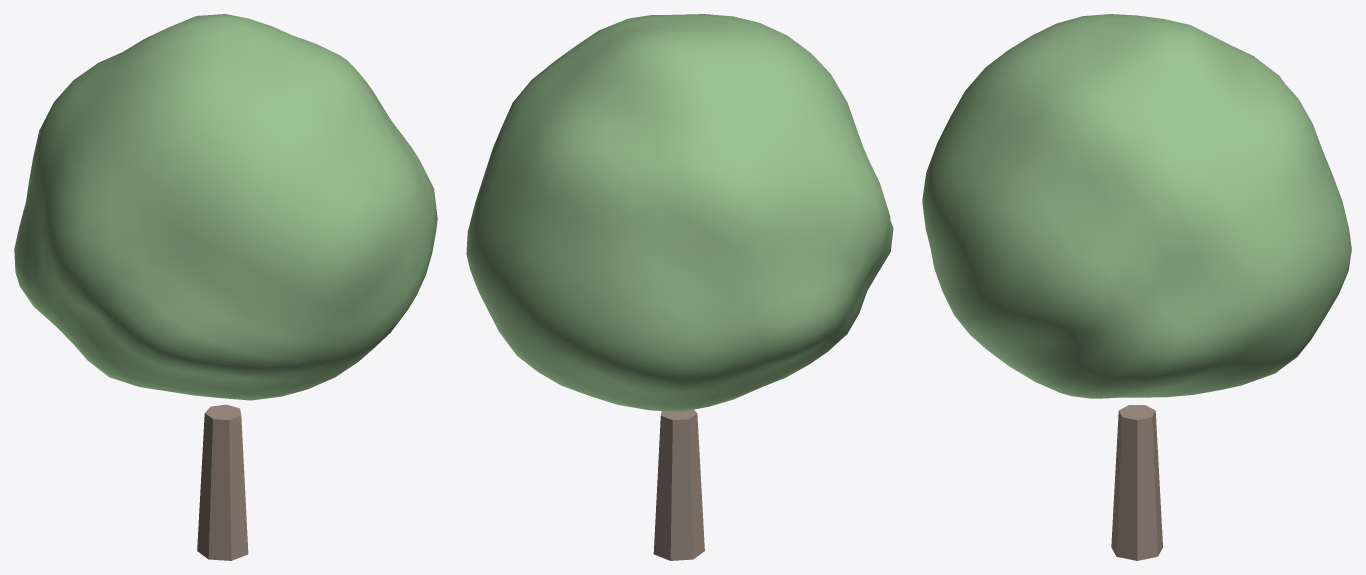
Rendered from tree-broadleaf-b.glb.
3 renders of one model, left to right at view 1: azimuth 30°, elevation 25°; view 2: azimuth 150°, elevation 25°; view 3: azimuth 270°, elevation 25°, orthographic.
Visible parts, largest first — view 1: tree-broadleaf-b; view 2: tree-broadleaf-b; view 3: tree-broadleaf-b.
Part boxes in pixels (box(x1,y1,x2,y2)): tree-broadleaf-b: box(14, 14, 437, 560); tree-broadleaf-b: box(466, 14, 893, 560); tree-broadleaf-b: box(922, 14, 1351, 560).
Size of the model in its own units: 0.7339 by 1 by 0.751.
